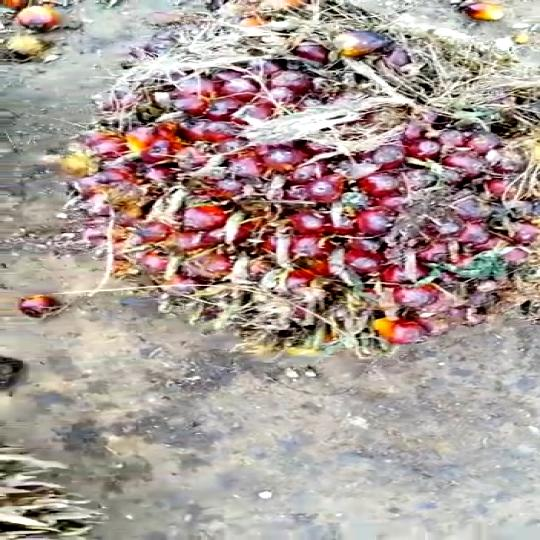masak: (74, 29, 540, 355)
